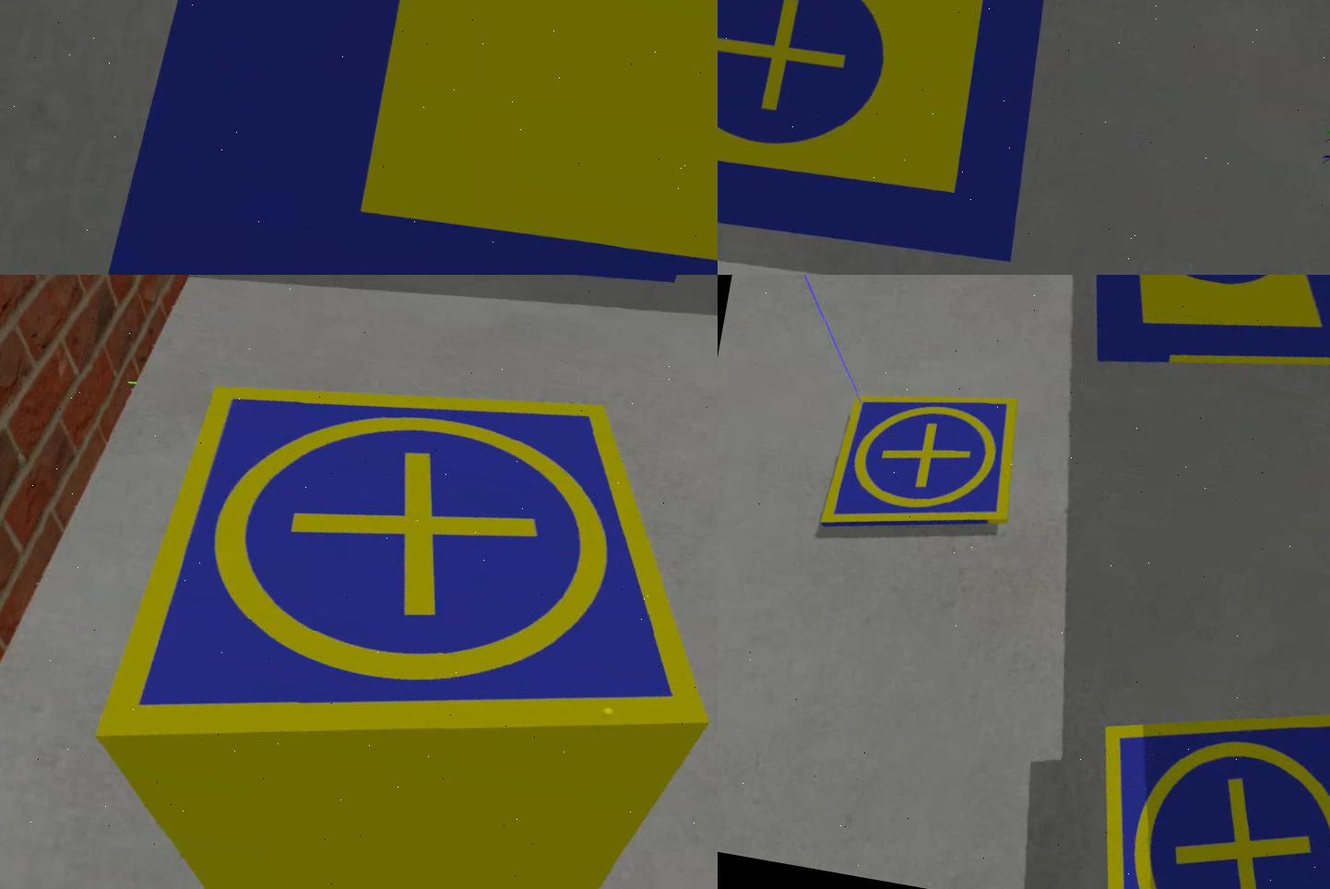large_base: (77, 1, 718, 276), (718, 1, 1070, 276), (1065, 276, 1330, 411), (268, 276, 695, 318)
small_base: (89, 324, 718, 845), (1070, 670, 1330, 889), (818, 367, 1033, 563)
